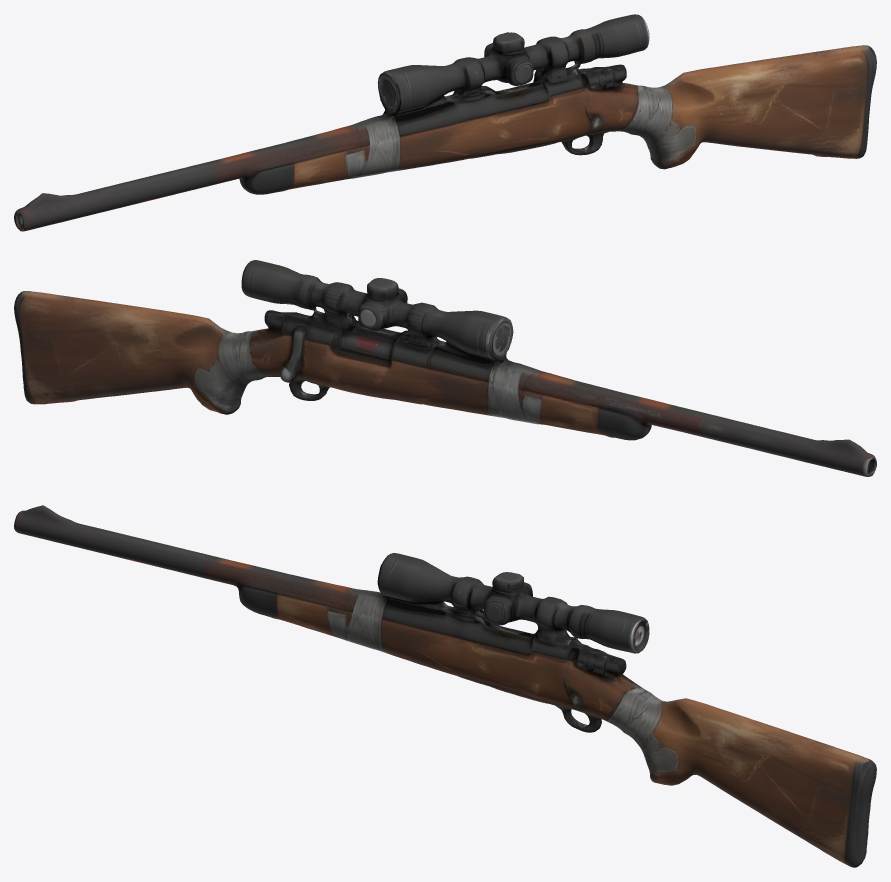
File: scoped_rifle.glb
3 views of the same model, one above another, from view 1: azimuth 30°, elevation 25°; view 2: azimuth 150°, elevation 25°; view 3: azimuth 330°, elevation 25° (orthographic).
Bounding box in the file's own units: 1.15 × 0.2635 × 0.0749.
Materials: 1 (1 with a texture image).
